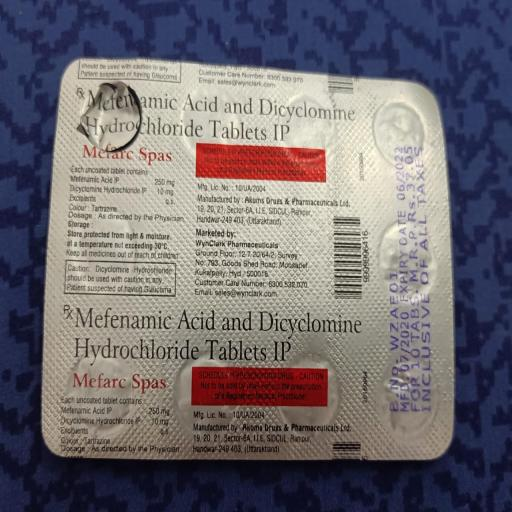mefarc spas: (51, 50, 460, 481)
